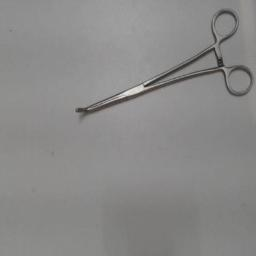Lahey Forceps: (72, 3, 254, 119)
